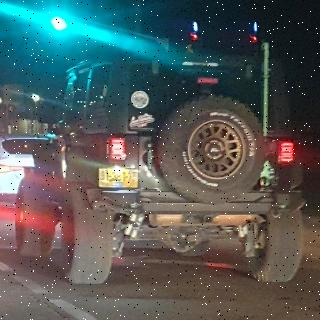LicensePlate: (100, 169, 138, 182)
